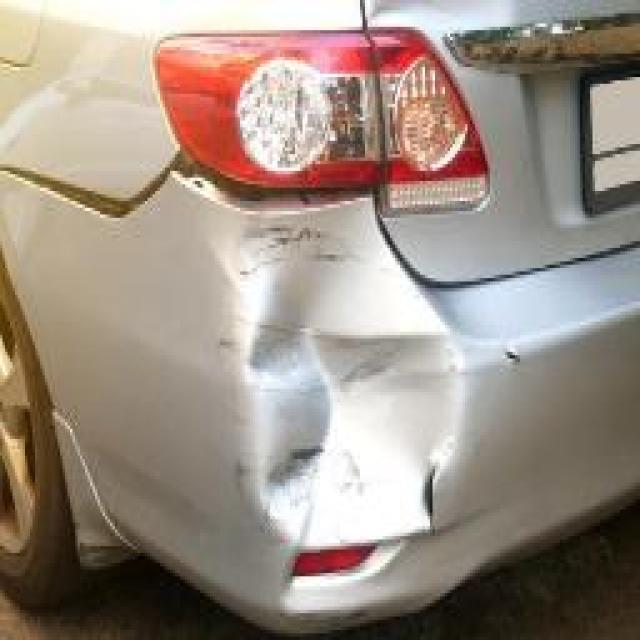Bumper: (145, 184, 465, 640)
Fender: (0, 3, 440, 208)
